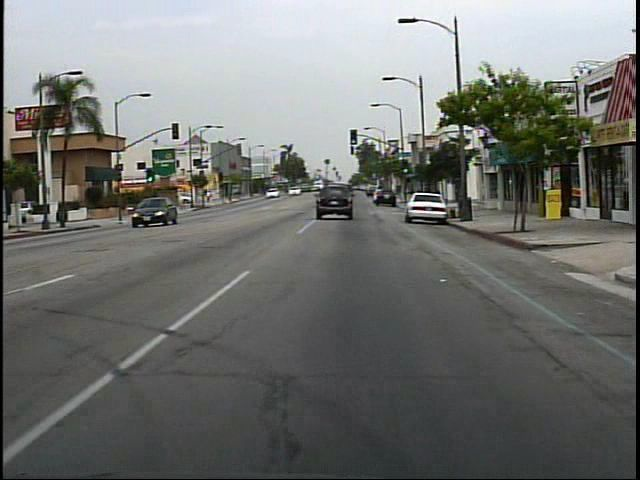person: (204, 187, 214, 206)
